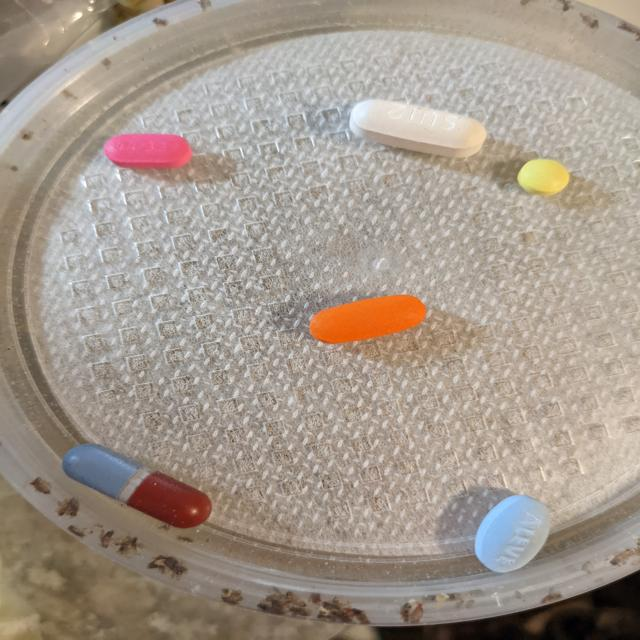non-organic waste: (61, 442, 214, 530), (348, 98, 488, 159), (473, 494, 552, 573), (308, 294, 428, 345), (103, 132, 193, 170), (516, 158, 570, 197)
